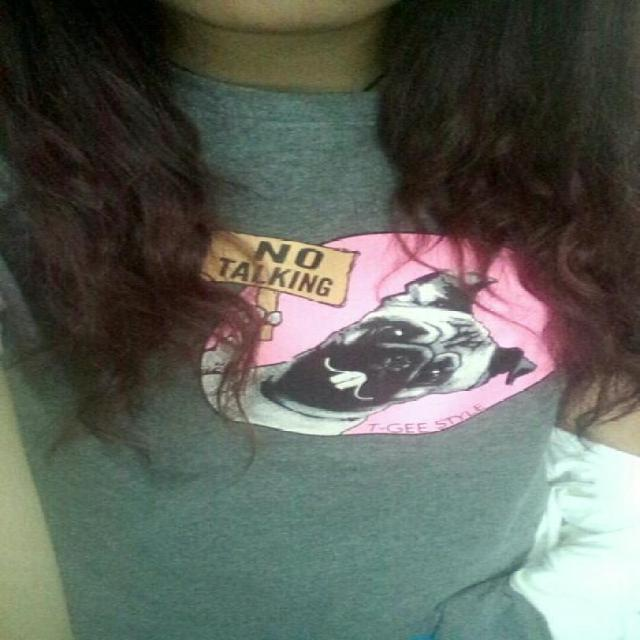short sleeve top: (7, 18, 599, 636)
